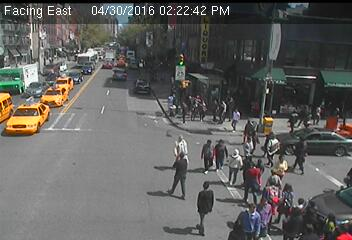neg: (60, 151, 99, 204), (86, 102, 117, 144), (124, 54, 153, 92), (48, 59, 75, 95), (288, 49, 307, 74), (317, 65, 335, 88), (180, 50, 194, 68), (250, 50, 263, 66)
pos: (186, 178, 226, 230), (287, 136, 319, 178), (168, 151, 199, 193), (220, 149, 247, 185), (209, 131, 234, 164), (259, 129, 284, 161), (243, 161, 267, 193), (236, 203, 260, 234), (193, 137, 215, 166), (271, 151, 293, 180), (254, 195, 274, 222), (279, 183, 299, 210), (173, 134, 193, 160), (286, 109, 303, 132), (207, 97, 224, 120), (180, 102, 196, 123), (243, 135, 257, 155), (231, 109, 245, 128), (314, 107, 326, 124)
